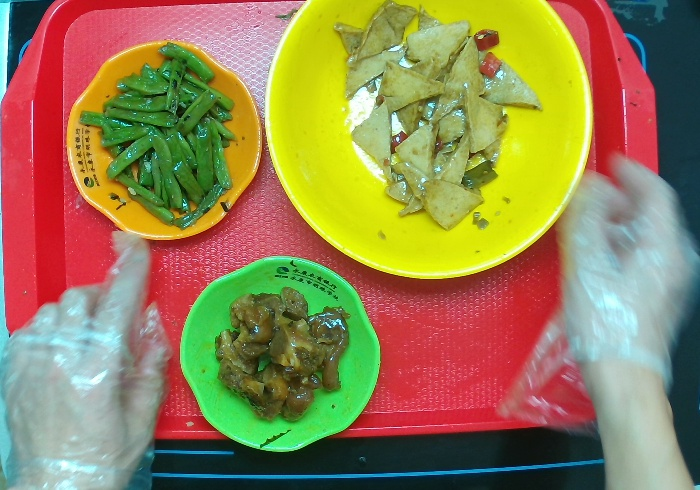YKMZ-Huang_Se_Tang_Wan: (260, 1, 597, 284)
YKMZ-Ju_Se_Ao_Bian_Wan: (67, 34, 257, 240)
YKMZ-Lv_Se_Ao_Bian_Wan: (180, 257, 387, 460)
